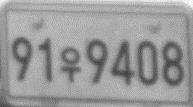0: (136, 40, 159, 85)
1: (36, 35, 53, 81)
4: (109, 39, 134, 86)
8: (162, 41, 185, 87)
9: (85, 39, 109, 85), (11, 35, 34, 82)
우: (59, 46, 82, 84)
